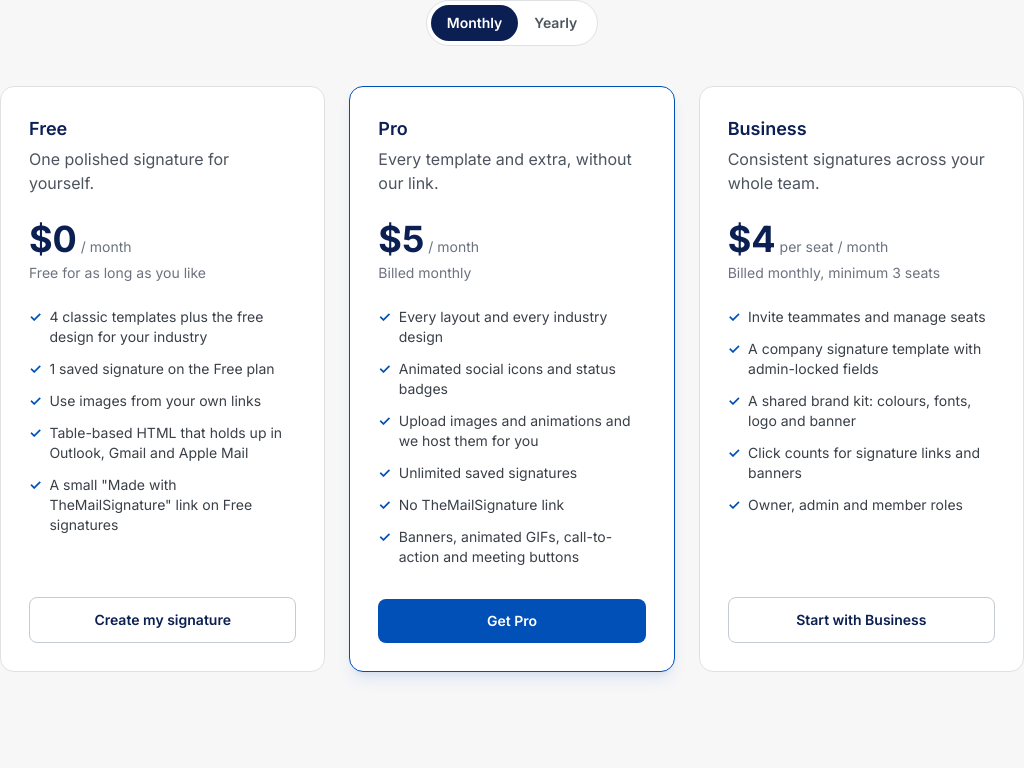
Test case: PricingCards › switches to the annual price per month
The image size is (1024, 768).
Click the radio button labelled "Yearly".
click(556, 23)  # box 518,5 -> 593,41
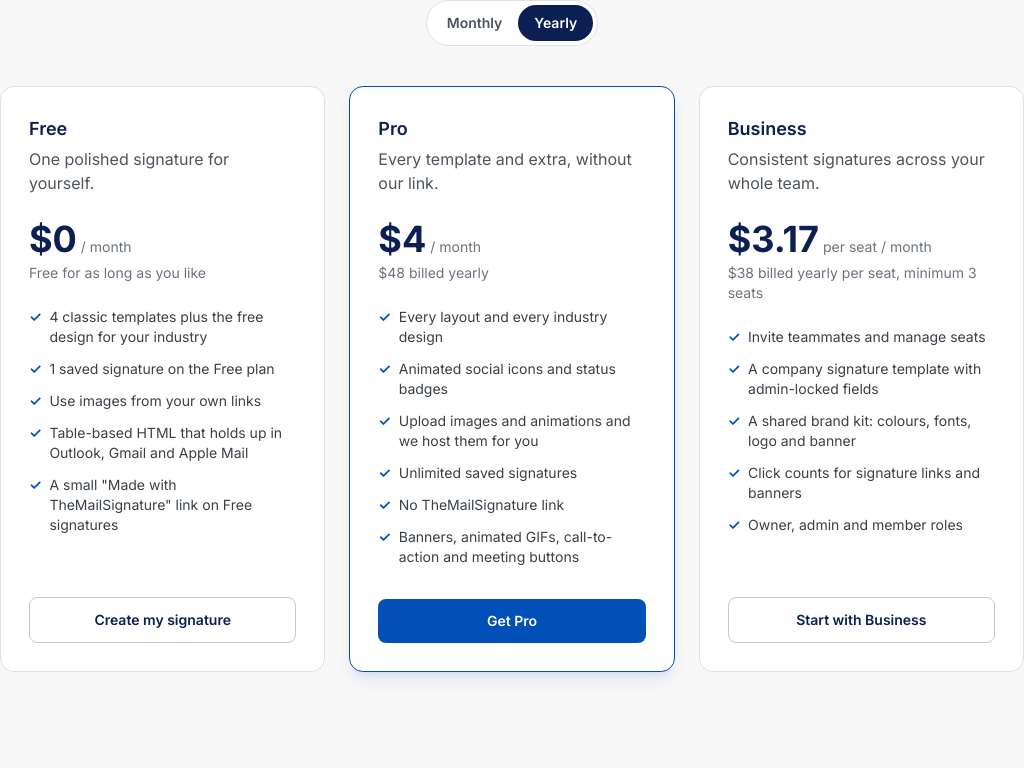
Now the text "$4" is shown, box 378,219 -> 426,259
Now the text "$48 billed yearly" is shown, box 378,264 -> 489,281
